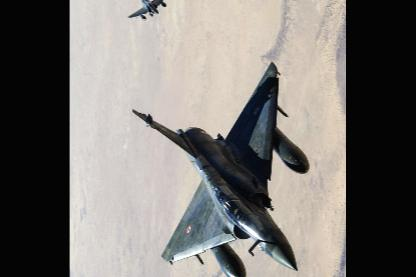Mirage2000: (132, 60, 310, 275), (126, 0, 167, 20)
